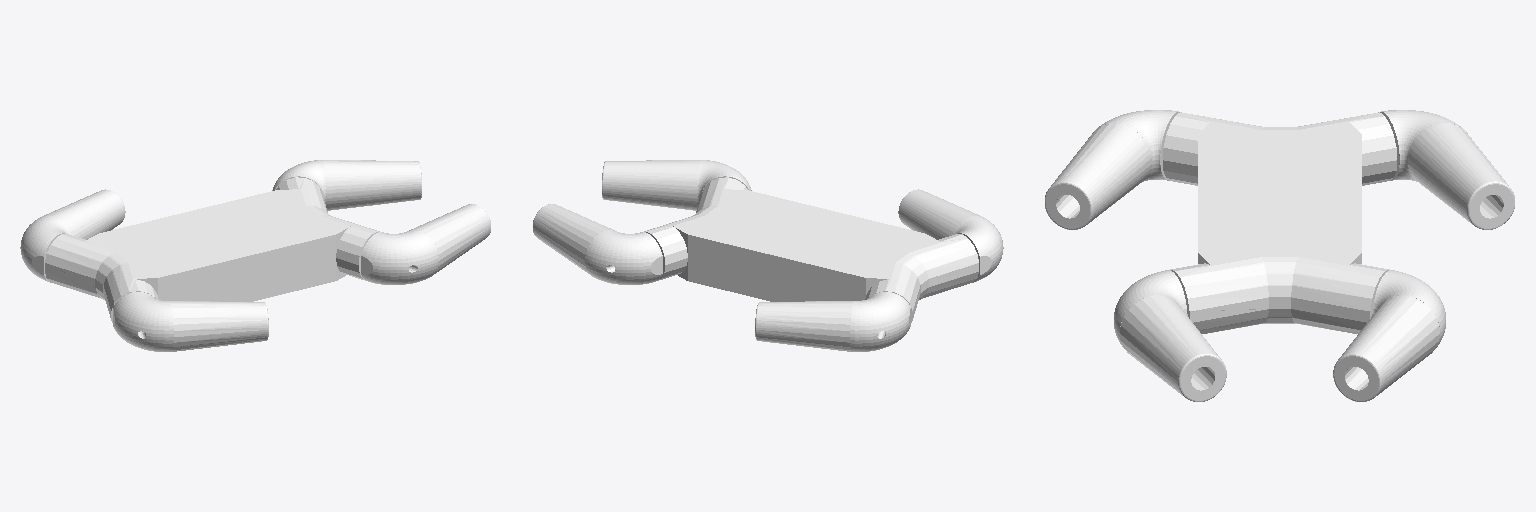
robot.urdf — 23_degree:
<?xml version="1.0" encoding="utf-8"?>
<!-- This URDF was automatically created by SolidWorks to URDF Exporter! Originally created by [author] ([email redacted]) 
     Commit Version: 1.5.1-0-g916b5db  Build Version: 1.5.7152.31018
     For more information, please see http://wiki.ros.org/sw_urdf_exporter -->
<robot
  name="23_degree">
  <link
    name="base_link">
    <inertial>
      <origin
        xyz="1.3878E-17 4.7473E-08 -1.3428E-08"
        rpy="0 0 0" />
      <mass
        value="2.942" />
      <inertia
        ixx="0.0096243"
        ixy="7.6519E-10"
        ixz="-1.539E-10"
        iyy="0.0466904"
        iyz="-5.148E-18"
        izz="0.0538946" />
    </inertial>
    <visual>
      <origin
        xyz="0 0 0"
        rpy="0 0 0" />
      <geometry>
        <mesh
          filename="package://23_degree/meshes/base_link.STL" />
      </geometry>
      <material
        name="">
        <color
          rgba="1 1 1 1" />
      </material>
    </visual>
    <collision>
      <origin
        xyz="0 0 0"
        rpy="0 0 0" />
      <geometry>
        <mesh
          filename="package://23_degree/meshes/base_link.STL" />
      </geometry>
    </collision>
  </link>
  <link
    name="left_front_link">
    <inertial>
      <origin
        xyz="-9.4375E-08 0.066386 -0.010941"
        rpy="0 0 0" />
      <mass
        value="0.092" />
      <inertia
        ixx="0.0002604"
        ixy="4.09E-10"
        ixz="5.0922E-10"
        iyy="0.0000676"
        iyz="-0.000058"
        izz="0.0002425" />
    </inertial>
    <visual>
      <origin
        xyz="0 0 0"
        rpy="0 0 0" />
      <geometry>
        <mesh
          filename="package://23_degree/meshes/left_front_link.STL" />
      </geometry>
      <material
        name="">
        <color
          rgba="1 1 1 1" />
      </material>
    </visual>
    <collision>
      <origin
        xyz="0 0 0"
        rpy="0 0 0" />
      <geometry>
        <mesh
          filename="package://23_degree/meshes/left_front_link.STL" />
      </geometry>
    </collision>
  </link>
  <joint
    name="left_front_leg"
    type="continuous">
    <origin
      xyz="0.17025 0.094812 0"
      rpy="1.5708 1.5708 0" />
    <parent
      link="base_link" />
    <child
      link="left_front_link" />
    <axis
      xyz="0 0.39073 -0.9205" />
    <limit
      effort="5"
      velocity="487" />
  </joint>
  <link
    name="right_front_link">
    <inertial>
      <origin
        xyz="9.4375E-08 0.066386 0.010941"
        rpy="0 0 0" />
      <mass
        value="0.092" />
      <inertia
        ixx="0.0002604"
        ixy="-4.09E-10"
        ixz="5.0922E-10"
        iyy="0.0000676"
        iyz="0.000058"
        izz="0.0002425" />
    </inertial>
    <visual>
      <origin
        xyz="0 0 0"
        rpy="0 0 0" />
      <geometry>
        <mesh
          filename="package://23_degree/meshes/right_front_link.STL" />
      </geometry>
      <material
        name="">
        <color
          rgba="1 1 1 1" />
      </material>
    </visual>
    <collision>
      <origin
        xyz="0 0 0"
        rpy="0 0 0" />
      <geometry>
        <mesh
          filename="package://23_degree/meshes/right_front_link.STL" />
      </geometry>
    </collision>
  </link>
  <joint
    name="right_front_leg"
    type="continuous">
    <origin
      xyz="0.17025 -0.094812 0"
      rpy="1.5708 1.5708 0" />
    <parent
      link="base_link" />
    <child
      link="right_front_link" />
    <axis
      xyz="0 0.39073 0.9205" />
    <limit
      effort="5"
      velocity="487" />
  </joint>
  <link
    name="right_back_link">
    <inertial>
      <origin
        xyz="8.4502E-08 0.056834 0.03601"
        rpy="0 0 0" />
      <mass
        value="0.092" />
      <inertia
        ixx="0.0002604"
        ixy="-5.2486E-10"
        ixz="1.9662E-10"
        iyy="0.0000526"
        iyz="-2.27E-05"
        izz="0.0002575" />
    </inertial>
    <visual>
      <origin
        xyz="0 0 0"
        rpy="0 0 0" />
      <geometry>
        <mesh
          filename="package://23_degree/meshes/right_back_link.STL" />
      </geometry>
      <material
        name="">
        <color
          rgba="1 1 1 1" />
      </material>
    </visual>
    <collision>
      <origin
        xyz="0 0 0"
        rpy="0 0 0" />
      <geometry>
        <mesh
          filename="package://23_degree/meshes/right_back_link.STL" />
      </geometry>
    </collision>
  </link>
  <joint
    name="right_back_leg"
    type="continuous">
    <origin
      xyz="-0.17025 -0.094812 0"
      rpy="-2.7402 1.5708 1.5708" />
    <parent
      link="base_link" />
    <child
      link="right_back_link" />
    <axis
      xyz="0 0 1" />
    <limit
      effort="5"
      velocity="487" />
  </joint>
  <link
    name="left_back_link">
    <inertial>
      <origin
        xyz="-8.4502E-08 0.038246 -0.055355"
        rpy="0 0 0" />
      <mass
        value="0.092" />
      <inertia
        ixx="0.0002604"
        ixy="5.5996E-10"
        ixz="-2.4087E-11"
        iyy="0.0001002"
        iyz="0.0000894"
        izz="0.0002099" />
    </inertial>
    <visual>
      <origin
        xyz="0 0 0"
        rpy="0 0 0" />
      <geometry>
        <mesh
          filename="package://23_degree/meshes/left_back_link.STL" />
      </geometry>
      <material
        name="">
        <color
          rgba="1 1 1 1" />
      </material>
    </visual>
    <collision>
      <origin
        xyz="0 0 0"
        rpy="0 0 0" />
      <geometry>
        <mesh
          filename="package://23_degree/meshes/left_back_link.STL" />
      </geometry>
    </collision>
  </link>
  <joint
    name="left_back_leg"
    type="continuous">
    <origin
      xyz="-0.17025 0.094812 0"
      rpy="1.5708 1.5708 0" />
    <parent
      link="base_link" />
    <child
      link="left_back_link" />
    <axis
      xyz="0 -0.39073 -0.9205" />
    <limit
      effort="5"
      velocity="487" />
  </joint>
</robot>

--- What the picture shows (computed from the rendered views, not written in the file) ---
The picture shows the robot from 3 angles, left to right: view 1: azimuth 30°, elevation 25°; view 2: azimuth 150°, elevation 25°; view 3: azimuth 270°, elevation 25°; orthographic projection.
Robot: 23_degree — 5 links, 4 joints (4 continuous); root link base_link; default pose: every joint at zero.
Links seen in each view (by area): view 1: base_link, right_back_link, right_front_link, left_front_link, left_back_link; view 2: base_link, left_back_link, left_front_link, right_front_link, right_back_link; view 3: base_link, left_back_link, right_back_link, left_front_link, right_front_link.
Boxes of the visible links, x1,y1,x2,y2 form: base_link: [45, 177, 379, 322]; right_back_link: [113, 292, 268, 351]; right_front_link: [361, 204, 490, 284]; left_front_link: [272, 160, 421, 210]; left_back_link: [20, 189, 125, 282]; base_link: [644, 177, 978, 322]; left_back_link: [755, 292, 910, 351]; left_front_link: [533, 204, 662, 284]; right_front_link: [602, 160, 751, 210]; right_back_link: [898, 189, 1003, 282]; base_link: [1163, 112, 1396, 333]; left_back_link: [1380, 110, 1514, 229]; right_back_link: [1045, 110, 1179, 229]; left_front_link: [1333, 270, 1445, 401]; right_front_link: [1114, 270, 1226, 401].
Bounding box of the posed robot: 0.5463 × 0.4302 × 0.064 m (x, y, z).
Meshes: 5 distinct files referenced, 5 mesh visuals loaded (5 binary STL).